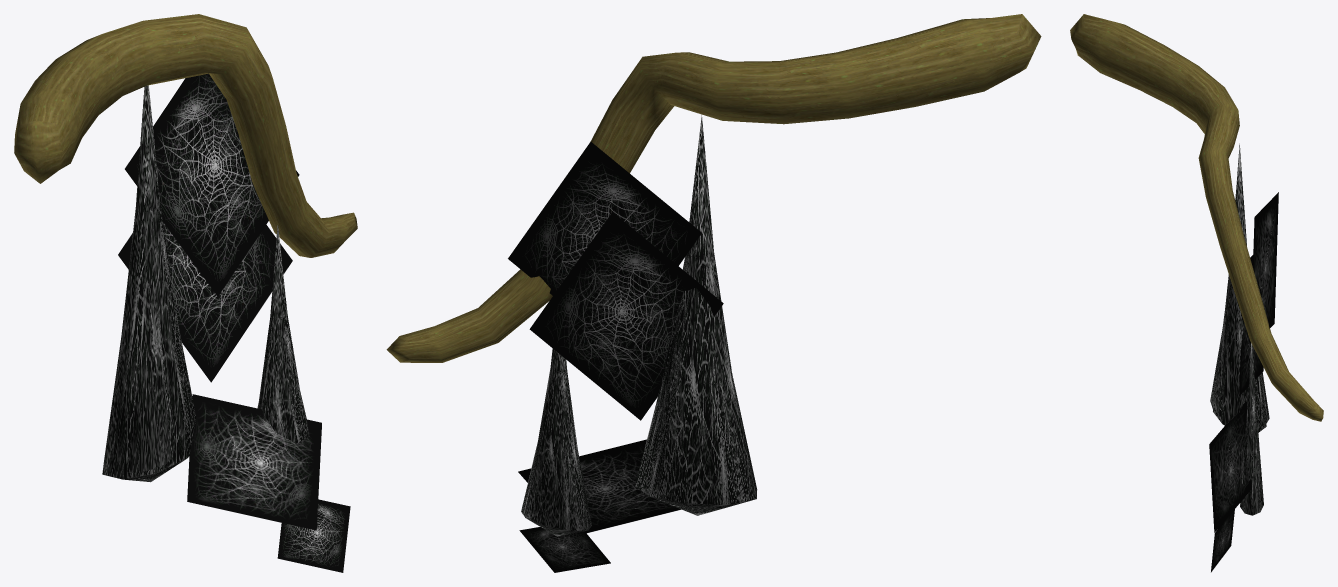
Rendered from INST_MIRK_DEADBRANCH_WEBS.fbx.
3 renders of one model, left to right at view 1: azimuth 30°, elevation 25°; view 2: azimuth 150°, elevation 25°; view 3: azimuth 270°, elevation 25°, orthographic. The views are drawn at different scales.
Parts seen in each view (by area): view 1: INST_MIRK_DEADBRANCH_WEBS; view 2: INST_MIRK_DEADBRANCH_WEBS; view 3: INST_MIRK_DEADBRANCH_WEBS.
Part boxes in pixels (left/top/right/bottom): INST_MIRK_DEADBRANCH_WEBS: left=14, top=14, right=357, bottom=572; INST_MIRK_DEADBRANCH_WEBS: left=386, top=14, right=1041, bottom=572; INST_MIRK_DEADBRANCH_WEBS: left=1070, top=14, right=1323, bottom=572.
Size of the model in its own units: 117986 by 136712 by 73664.
Materials: 3 (3 with a texture image).
